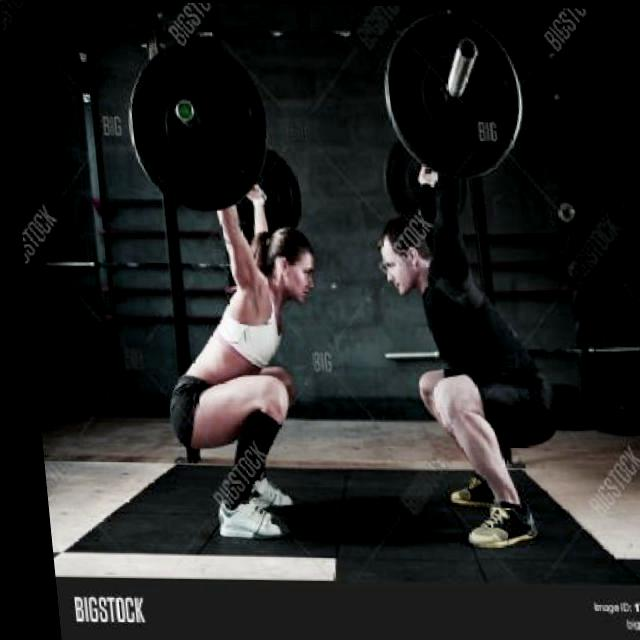barbell: (111, 34, 282, 223), (375, 6, 530, 186)
